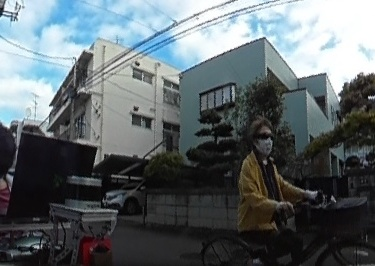person: (237, 114, 315, 265)
